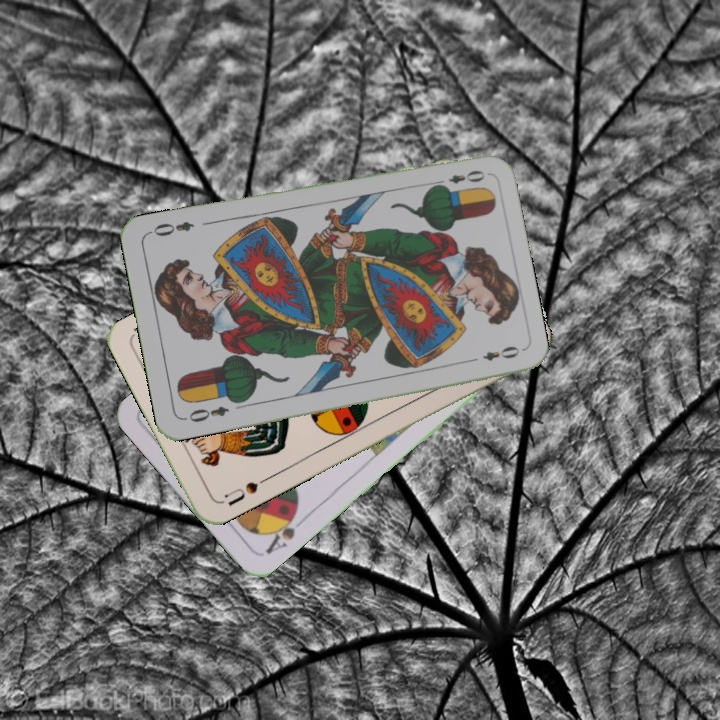EO: (430, 166, 488, 191), (180, 402, 232, 425)
SA: (261, 506, 309, 558)
SU: (220, 473, 271, 509)
